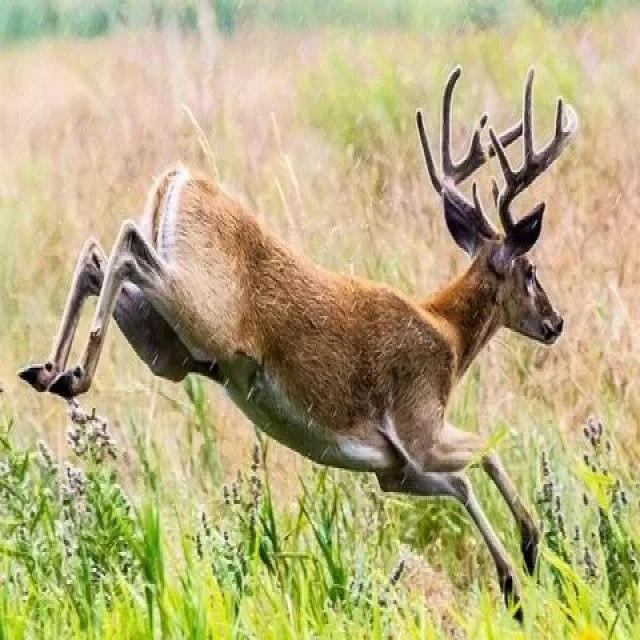deer: (95, 71, 599, 524)
